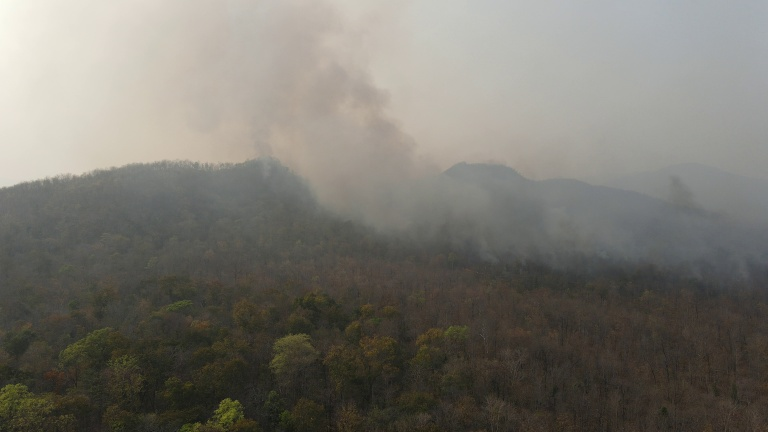smoke: (188, 4, 662, 271), (249, 115, 276, 187)
